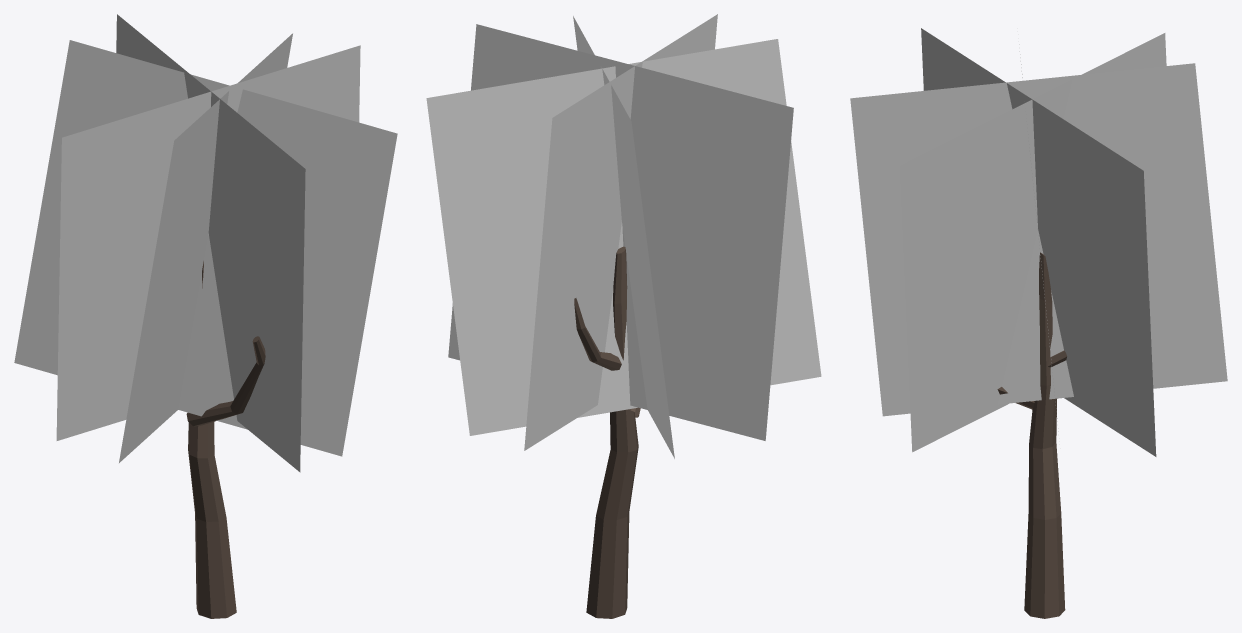
The model's file is Tree8.fbx.
3 renders of one model, left to right at view 1: azimuth 30°, elevation 25°; view 2: azimuth 150°, elevation 25°; view 3: azimuth 270°, elevation 25°, orthographic. The views are drawn at different scales.
Visible parts, largest first — view 1: Plane.007; view 2: Plane.007; view 3: Plane.007.
Boxes of the visible parts, left/top/right/bottom form: Plane.007: left=14, top=14, right=397, bottom=618; Plane.007: left=426, top=14, right=821, bottom=618; Plane.007: left=850, top=28, right=1227, bottom=618.
Bounding box in the file's own units: 1019 × 1681 × 1072.
